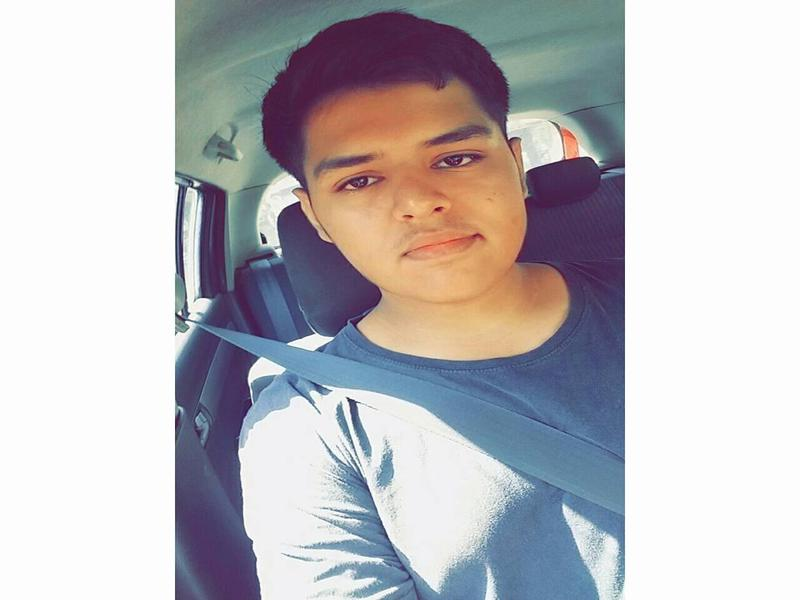without_mask: (300, 110, 526, 303)
